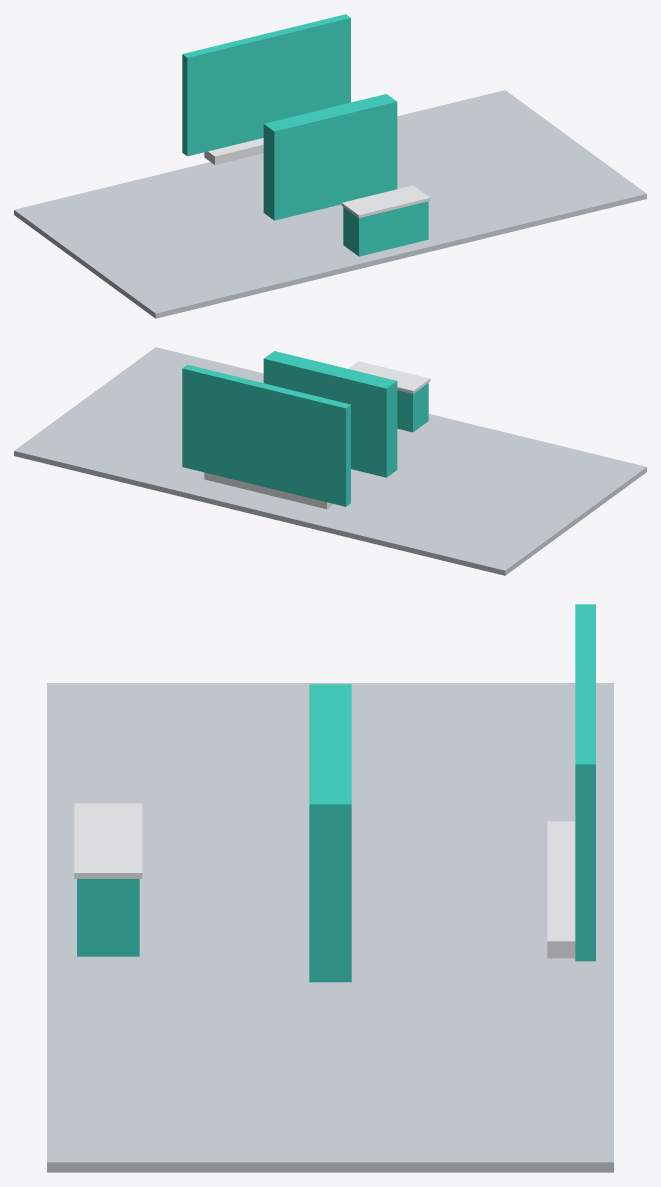
3 views of the same model, one above another, from view 1: azimuth 30°, elevation 25°; view 2: azimuth 150°, elevation 25°; view 3: azimuth 270°, elevation 25° (orthographic). The views are drawn at different scales.
Parts seen in each view (by area): view 1: Exhibition Booth Concept; view 2: Exhibition Booth Concept; view 3: Exhibition Booth Concept.
Boxes of the visible parts, left/top/right/bottom form: Exhibition Booth Concept: left=14, top=14, right=646, bottom=318; Exhibition Booth Concept: left=14, top=347, right=646, bottom=575; Exhibition Booth Concept: left=47, top=604, right=613, bottom=1172.
Bounding box in the file's own units: 12 × 2.9 × 6.
